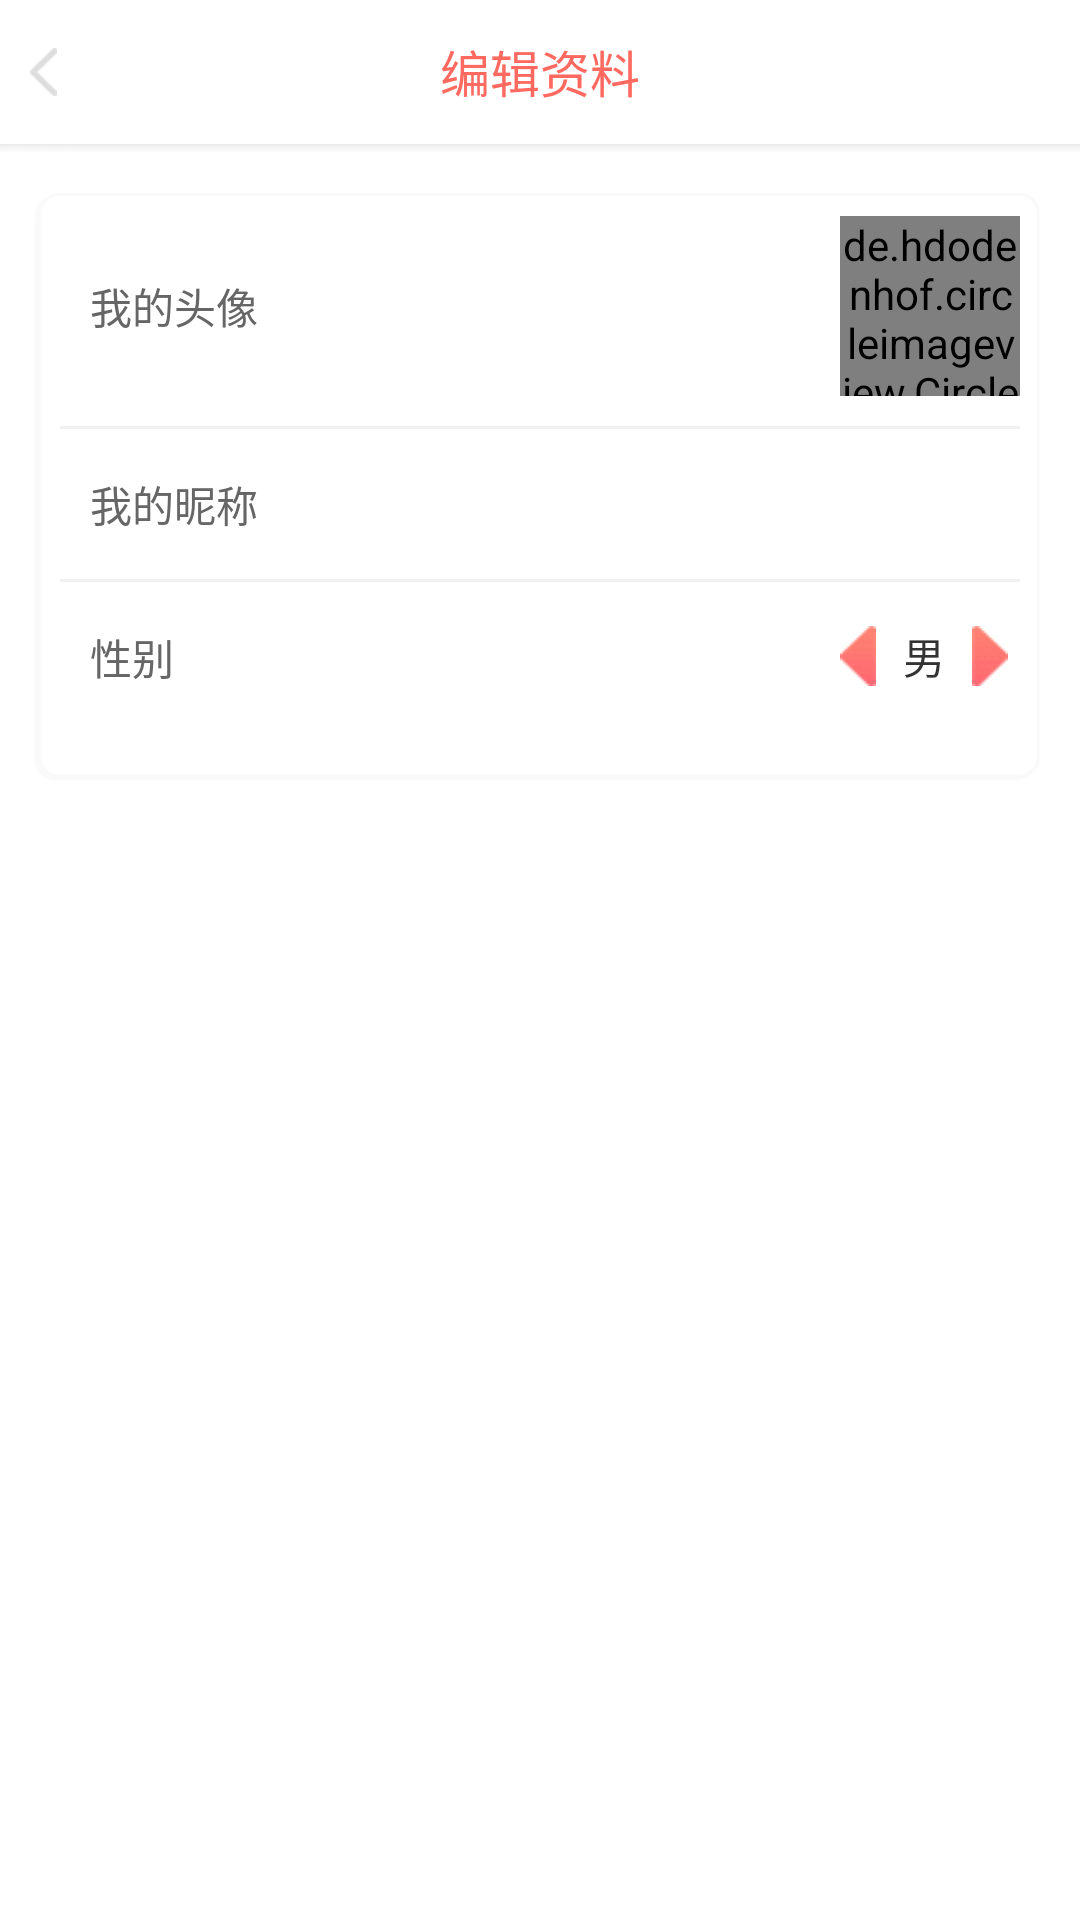

Screen size 1080px×1920px. Icon name, then its box in pixels as (x1, y1, x2, y2):
back: (30, 48, 57, 96)
left: (840, 626, 876, 686)
right: (972, 626, 1008, 686)
